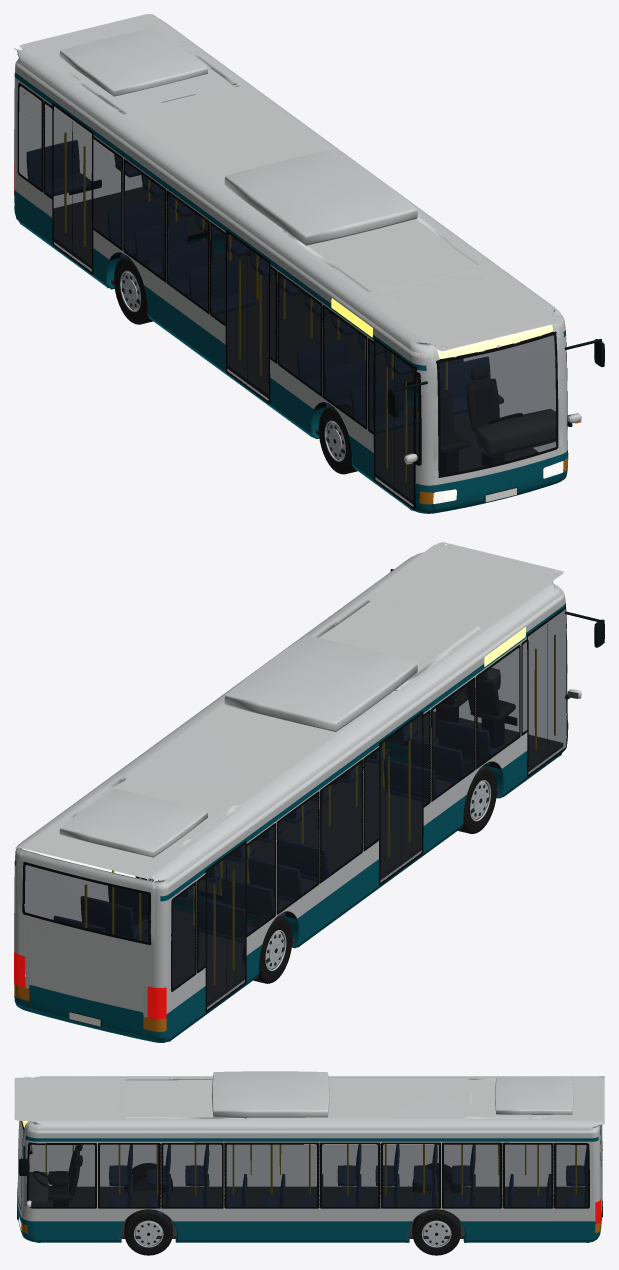
Rendered from car_bus.glb.
3 views of the same model, one above another, from view 1: azimuth 30°, elevation 25°; view 2: azimuth 150°, elevation 25°; view 3: azimuth 270°, elevation 25° (orthographic). The views are drawn at different scales.
Parts seen in each view (by area): view 1: body, glass, wheel_FR_mesh, wheel_RR_mesh, taxi_sign; view 2: body, glass, wheel_RR_mesh, wheel_FR_mesh, taillight; view 3: body, glass, wheel_FL_mesh, wheel_RL_mesh, wheel_FR_mesh, wheel_RR_mesh.
Boxes of the visible parts, x1,y1,x2,y2 form: body: (14,14,604,513); glass: (19,86,556,506); wheel_FR_mesh: (318,404,357,474); wheel_RR_mesh: (114,255,152,324); taxi_sign: (331,298,552,358); body: (14,542,604,1042); glass: (24,609,567,1009); wheel_RR_mesh: (243,915,292,983); wheel_FR_mesh: (452,764,496,833); taillight: (14,952,166,1019); body: (14,1071,604,1242); glass: (17,1121,602,1207); wheel_FL_mesh: (124,1209,172,1255); wheel_RL_mesh: (412,1209,460,1255); wheel_FR_mesh: (124,1163,172,1192); wheel_RR_mesh: (412,1163,460,1192).
Size of the model in its own units: 3.52 by 3.21 by 12.11.
